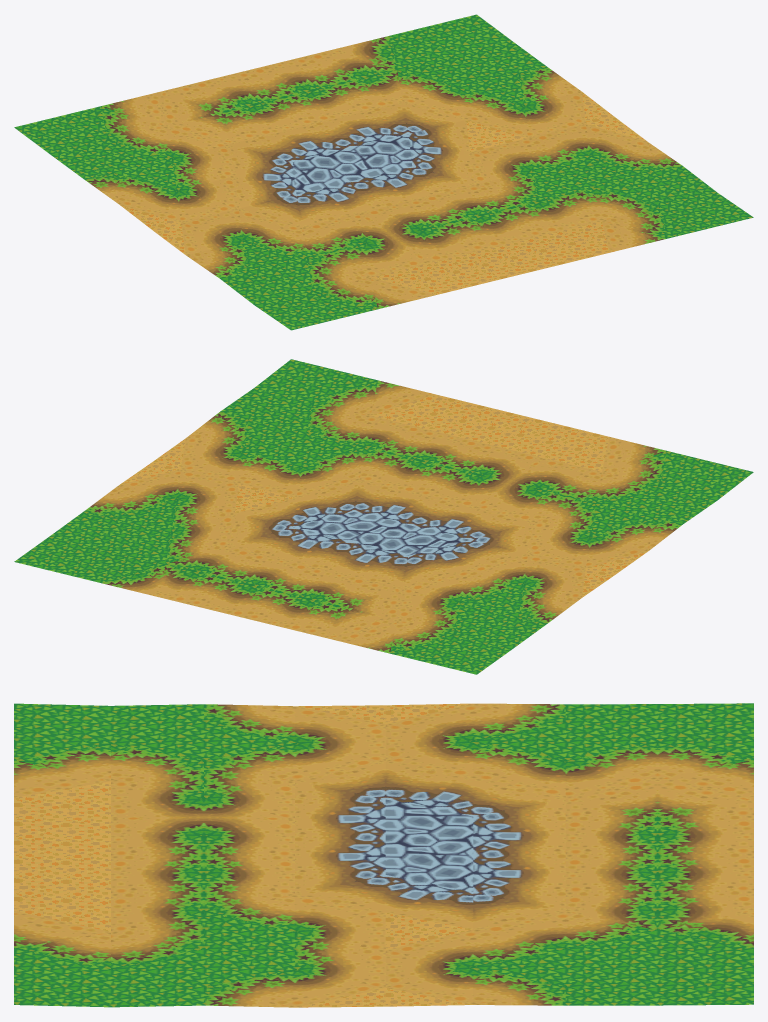
Rendered from c_grd_f_m_1.001.glb.
3 renders of one model, top to bottom at view 1: azimuth 30°, elevation 25°; view 2: azimuth 150°, elevation 25°; view 3: azimuth 270°, elevation 25°, orthographic. The views are drawn at different scales.
Visible parts, largest first — view 1: c_grd_f_m_1.001; view 2: c_grd_f_m_1.001; view 3: c_grd_f_m_1.001.
Part boxes in pixels (box(x1,y1,x2,y2)): c_grd_f_m_1.001: box(14, 14, 753, 330); c_grd_f_m_1.001: box(14, 359, 753, 674); c_grd_f_m_1.001: box(14, 703, 753, 1007).
Size of the model in its own units: 32 by 0.1406 by 33.2.
5 materials, 5 textured.
